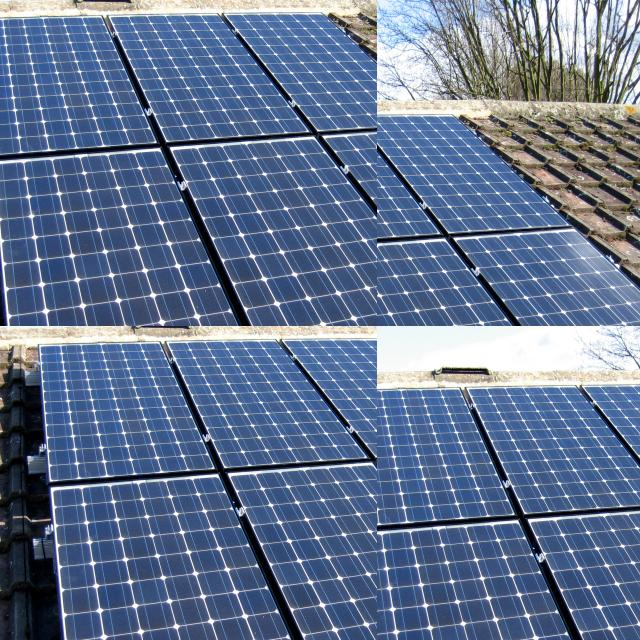bird: (3, 132, 20, 148), (0, 33, 8, 60), (0, 99, 9, 122), (39, 114, 54, 126), (0, 73, 8, 95), (0, 83, 9, 102), (0, 56, 7, 80), (12, 108, 20, 128), (36, 131, 43, 152), (1, 112, 8, 128), (0, 111, 10, 122), (0, 28, 5, 50), (9, 37, 15, 49), (0, 86, 5, 100), (0, 36, 3, 54), (0, 60, 4, 71)
crack: (40, 347, 382, 639), (377, 516, 640, 640), (466, 374, 640, 534), (377, 377, 528, 539), (519, 502, 640, 640), (569, 361, 640, 529)
dust: (377, 95, 467, 214), (377, 97, 480, 196), (377, 227, 478, 326), (377, 228, 476, 326)
panel: (5, 326, 30, 339), (0, 326, 13, 339), (32, 326, 50, 335), (50, 326, 67, 334), (0, 326, 14, 335), (19, 326, 30, 331), (0, 326, 10, 330), (0, 326, 5, 329)
